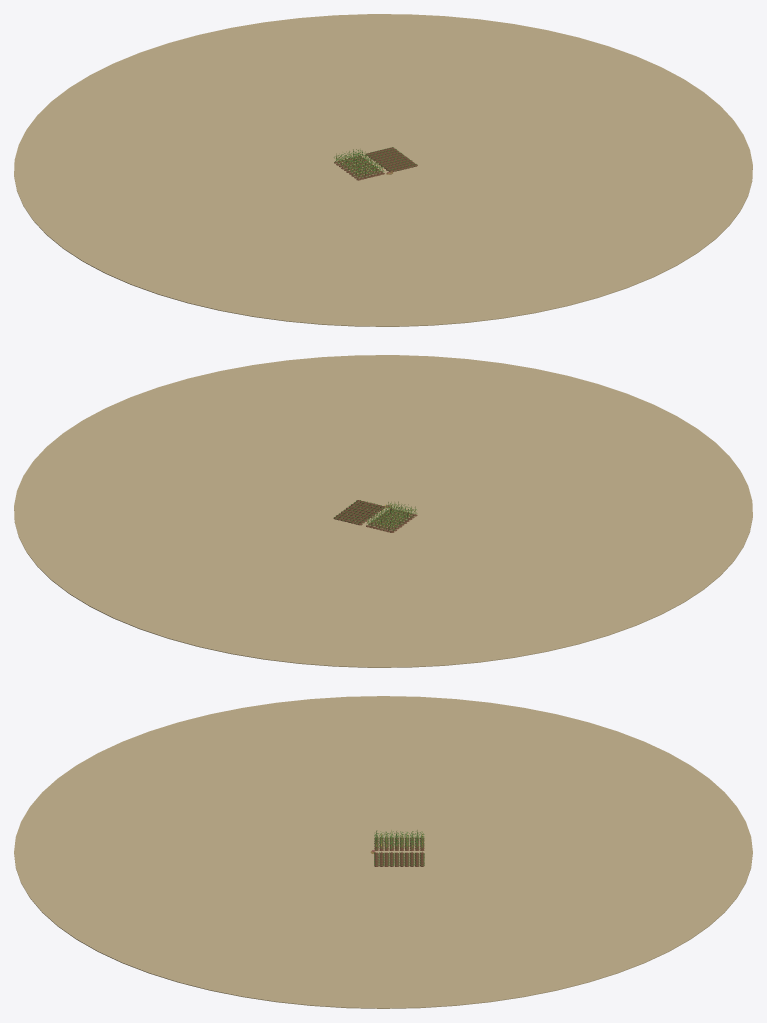
File: field.glb
3 views of the same model, one above another, from view 1: azimuth 30°, elevation 25°; view 2: azimuth 150°, elevation 25°; view 3: azimuth 270°, elevation 25° (orthographic).
Visible parts, largest first — view 1: ENV_ground, INT_maize; view 2: ENV_ground, INT_maize; view 3: ENV_ground, INT_maize.
Part boxes in pixels (x1,y1,x2,y2): ENV_ground: [14, 14, 752, 326]; INT_maize: [334, 149, 384, 178]; ENV_ground: [14, 355, 752, 667]; INT_maize: [366, 501, 417, 530]; ENV_ground: [14, 696, 752, 1008]; INT_maize: [374, 830, 424, 849].
Bounding box in the file's own units: 160 × 2.62 × 160.
